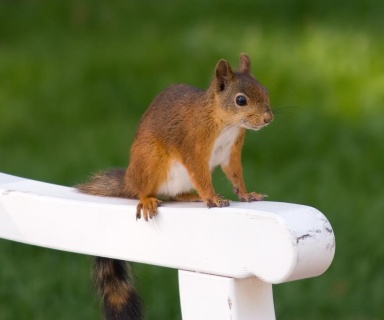Squirrel: (70, 53, 307, 319)
